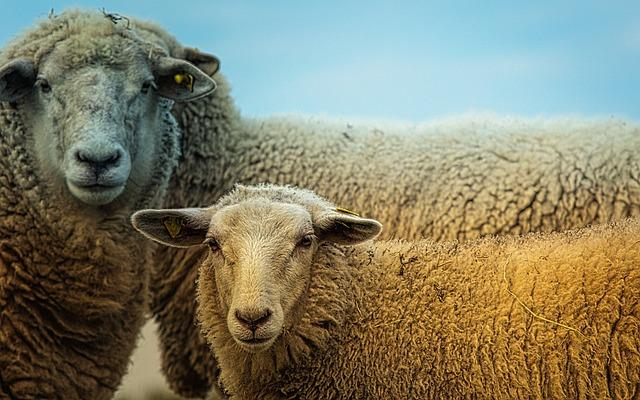Non_Gorille: (2, 6, 594, 400)
